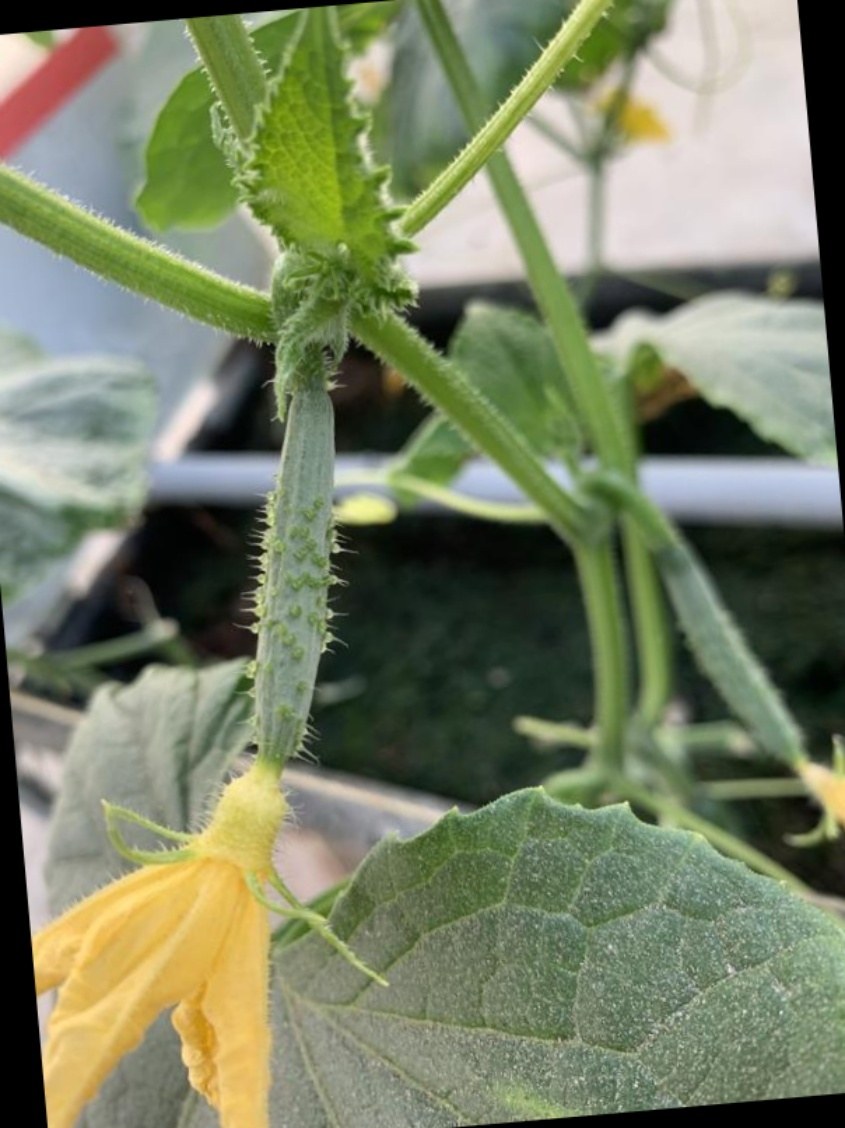bear: (0, 328, 416, 1085)
